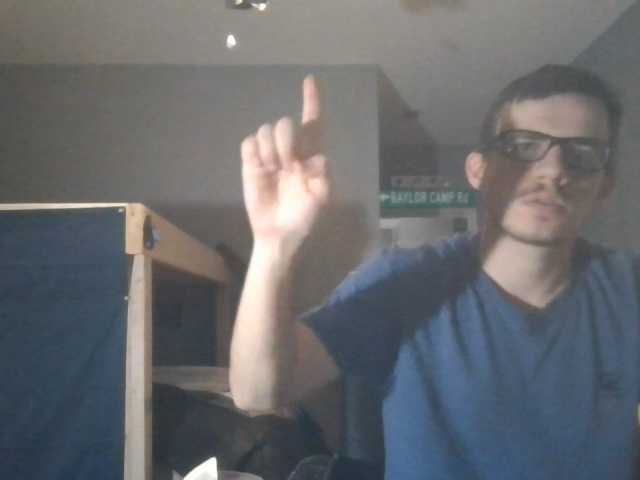D: (213, 66, 348, 247)
